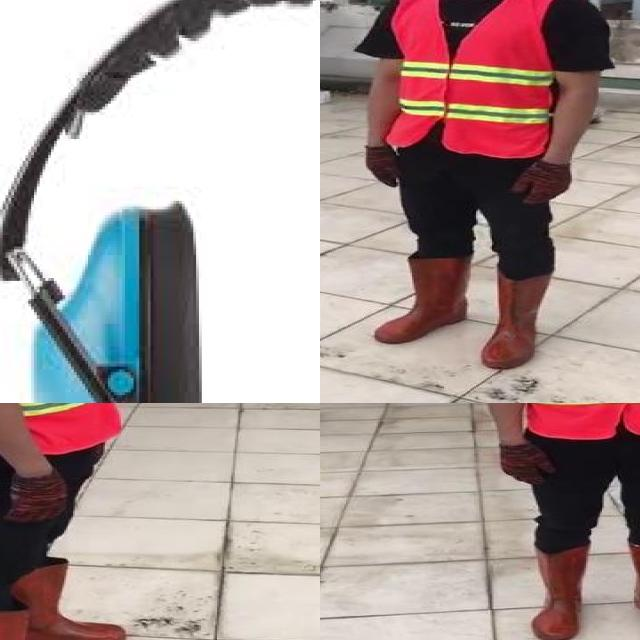Ear-protection: (0, 0, 320, 403)
boots: (16, 561, 128, 640), (376, 256, 471, 345), (482, 271, 554, 370), (531, 549, 588, 640), (0, 600, 99, 640)
hand_glove: (7, 472, 73, 523), (508, 159, 572, 204), (492, 441, 556, 486), (362, 147, 403, 188)
person: (342, 0, 627, 372), (458, 403, 640, 640), (0, 403, 164, 640)
vest: (387, 0, 565, 157)
